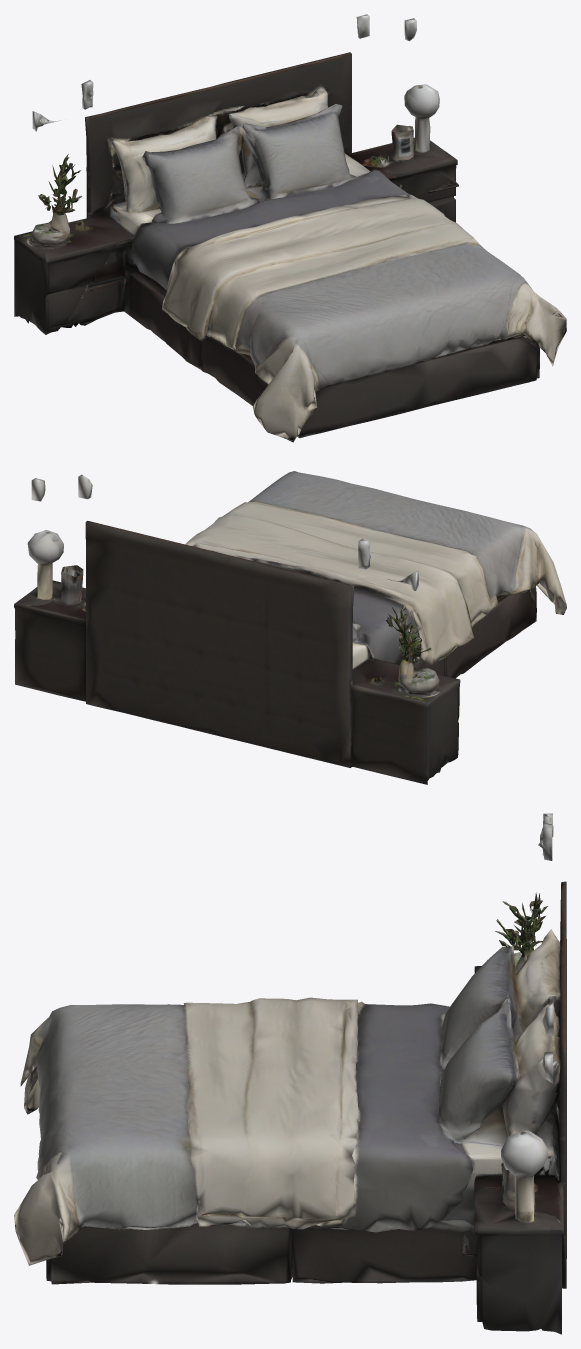
The model's file is bed.glb.
The picture shows the model from 3 angles, top to bottom: view 1: azimuth 30°, elevation 25°; view 2: azimuth 150°, elevation 25°; view 3: azimuth 270°, elevation 25°; orthographic projection. The views are drawn at different scales.
Size of the model in its own units: 2 by 1.04 by 1.78.
1 material, 1 textured.
